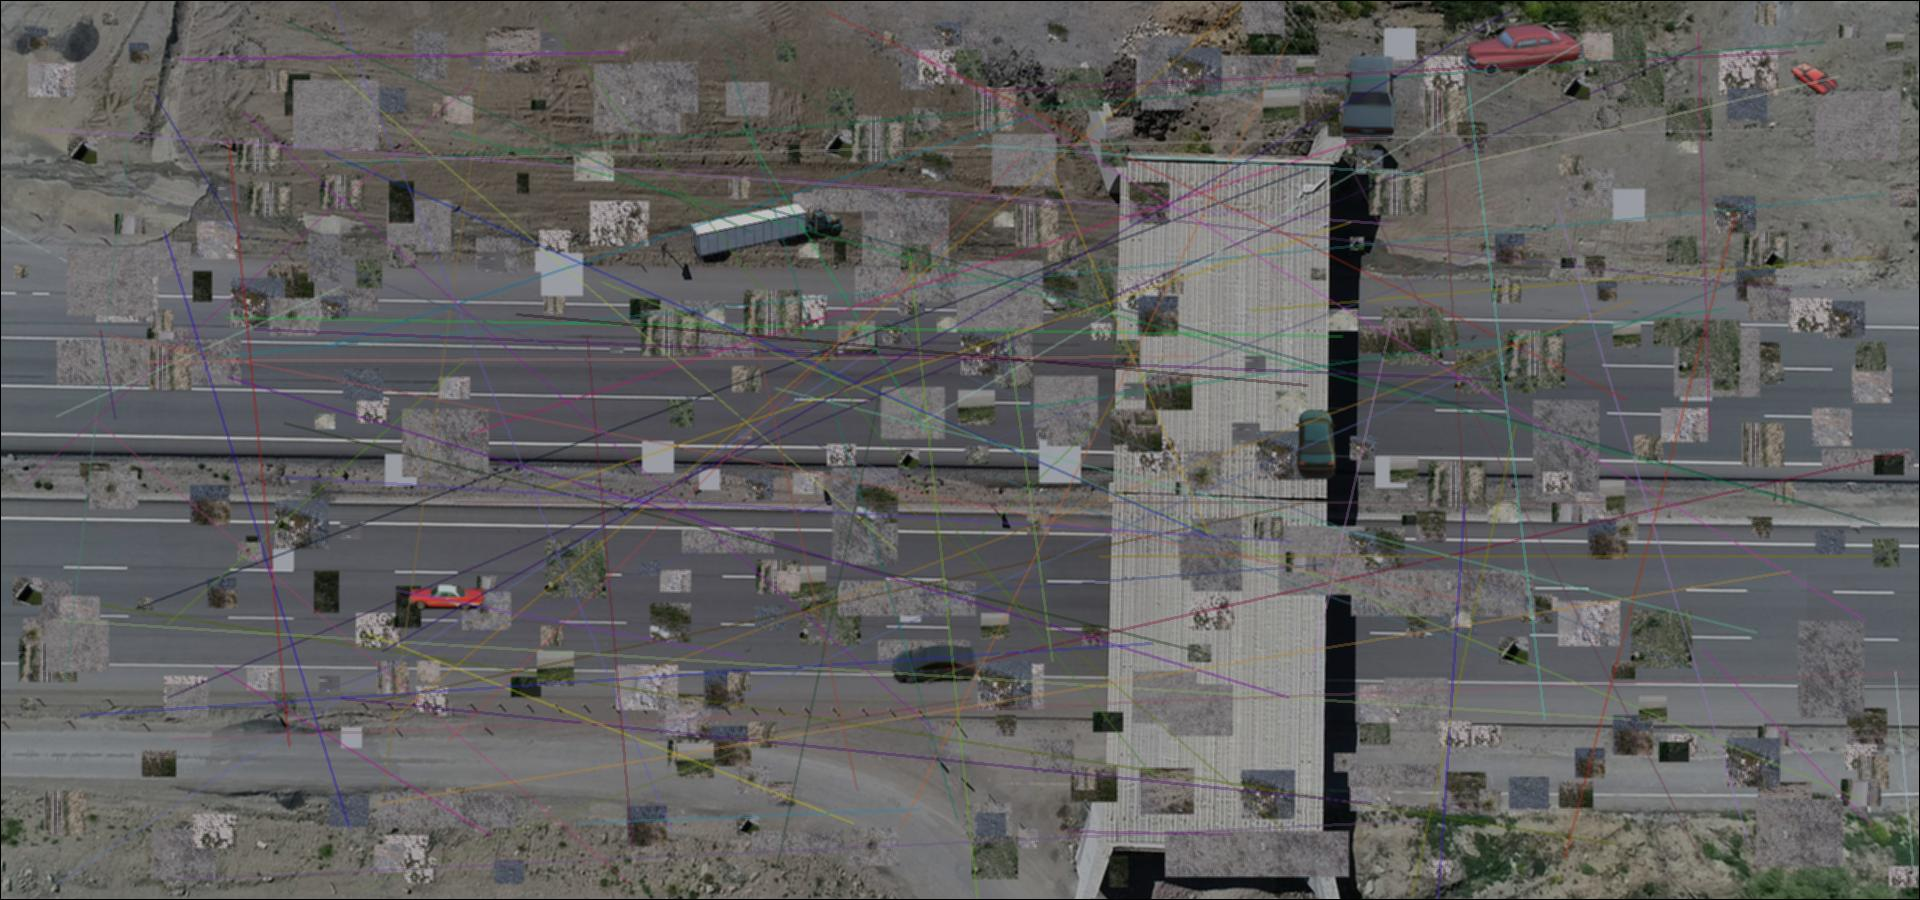arac: (688, 201, 845, 263), (1461, 24, 1584, 78), (1337, 56, 1401, 143), (891, 644, 978, 684), (1292, 408, 1340, 479), (408, 585, 487, 611), (1790, 61, 1838, 96)
